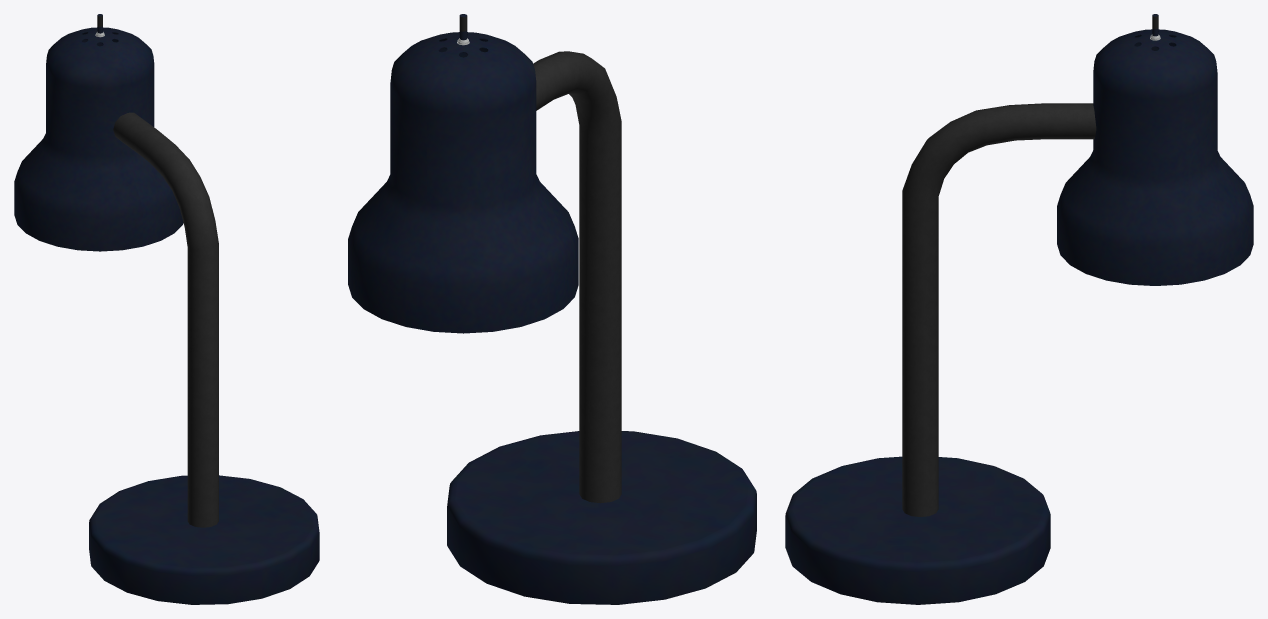
File: lamp.FBX
3 renders of one model, left to right at view 1: azimuth 30°, elevation 25°; view 2: azimuth 150°, elevation 25°; view 3: azimuth 270°, elevation 25°, orthographic. The views are drawn at different scales.
Parts seen in each view (by area): view 1: Cylinder002; view 2: Cylinder002; view 3: Cylinder002.
Boxes of the visible parts, x1,y1,x2,y2 form: Cylinder002: (14, 14, 319, 604); Cylinder002: (348, 14, 756, 604); Cylinder002: (785, 14, 1253, 604).
Size of the model in its own units: 15.24 by 33.83 by 26.88.
2 materials, 2 textured.
